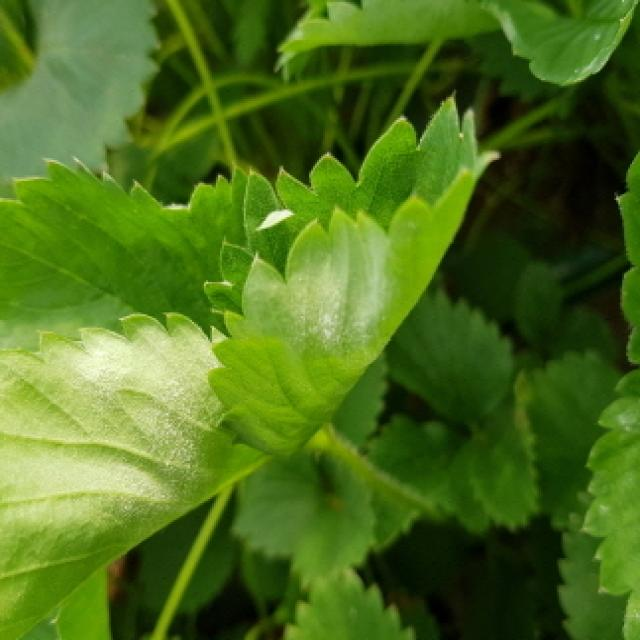Powdery Mildew Leaf: (199, 91, 503, 460), (0, 310, 272, 640), (579, 369, 640, 640), (476, 0, 640, 88)
